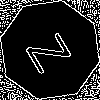Z: (25, 25, 81, 76)
